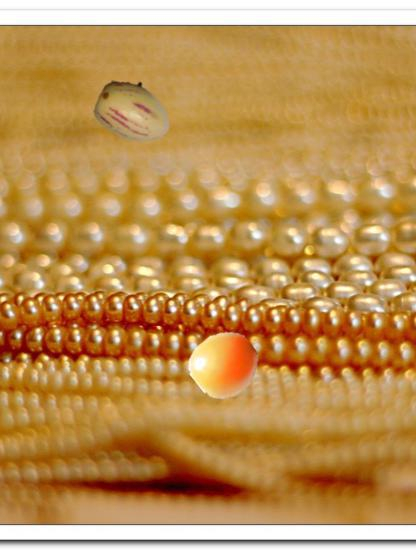Cherry: (191, 331, 259, 399)
Pepino: (94, 71, 174, 151)
